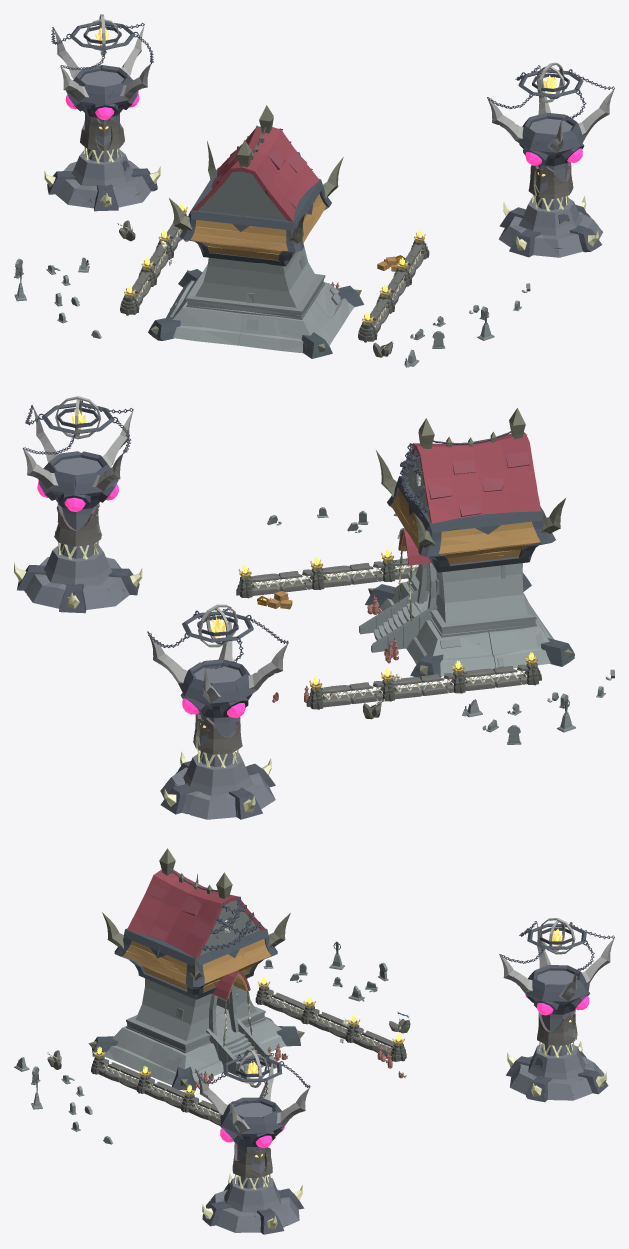
File: hades_mausoleum.glb
3 renders of one model, top to bottom at view 1: azimuth 30°, elevation 25°; view 2: azimuth 150°, elevation 25°; view 3: azimuth 270°, elevation 25°, orthographic. The views are drawn at different scales.
Visible parts, largest first — view 1: HadesTower.001, HadesTower, HadesMausoleum, HadesMausoleum.006, HadesMausoleum.002, HadesMausoleum.001; view 2: HadesTower, HadesTower.001, HadesMausoleum, HadesMausoleum.006, HadesMausoleum.002, HadesMausoleum.001, HadesW01_WallBlocks.008, HadesW01_WallBlocks.010, HadesW01_WallBlocks.012, HadesW01_WallBlocks.007, HadesW01_WallBlocks.009, HadesW02_WallBlocks.008 (+1 smaller); view 3: HadesTower, HadesTower.001, HadesMausoleum, HadesMausoleum.006, HadesMausoleum.002, HadesMausoleum.001.
Part boxes in pixels (<box>): HadesTower.001: <box>487,62,614,257</box>; HadesTower: <box>44,14,160,211</box>; HadesMausoleum: <box>148,255,364,358</box>; HadesMausoleum.006: <box>192,105,319,221</box>; HadesMausoleum.002: <box>169,141,343,266</box>; HadesMausoleum.001: <box>195,247,316,307</box>; HadesTower: <box>147,604,288,819</box>; HadesTower.001: <box>14,396,142,613</box>; HadesMausoleum: <box>359,528,574,677</box>; HadesMausoleum.006: <box>400,408,540,523</box>; HadesMausoleum.002: <box>376,434,565,572</box>; HadesMausoleum.001: <box>415,563,527,623</box>; HadesW01_WallBlocks.008: <box>493,664,528,687</box>; HadesW01_WallBlocks.010: <box>349,561,384,584</box>; HadesW01_WallBlocks.012: <box>278,569,313,592</box>; HadesW01_WallBlocks.007: <box>420,673,455,695</box>; HadesW01_WallBlocks.009: <box>349,681,384,703</box>; HadesW02_WallBlocks.008: <box>463,668,495,690</box>; HadesTower: <box>499,918,614,1102</box>; HadesTower.001: <box>195,1049,310,1234</box>; HadesMausoleum: <box>88,970,304,1090</box>; HadesMausoleum.006: <box>127,848,264,957</box>; HadesMausoleum.002: <box>102,873,290,999</box>; HadesMausoleum.001: <box>135,978,256,1041</box>.
Size of what is drawn, in the model's own units: 61.19 by 23.06 by 61.87.
Materials: 1 (1 with a texture image).
